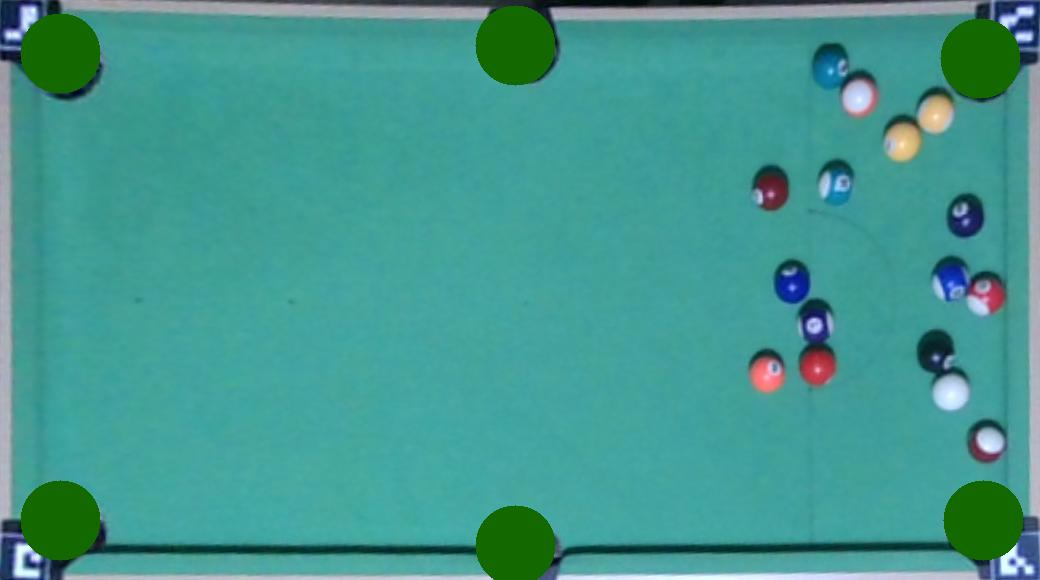Ball: (812, 45, 851, 87), (945, 196, 985, 236), (840, 76, 880, 116), (915, 94, 955, 134), (750, 170, 790, 209), (965, 276, 1004, 316), (817, 163, 855, 204), (773, 262, 811, 302), (881, 122, 921, 160), (966, 424, 1006, 462), (798, 348, 836, 386), (931, 375, 971, 411), (797, 304, 834, 342), (748, 355, 786, 392), (932, 262, 968, 300), (918, 336, 955, 372)
